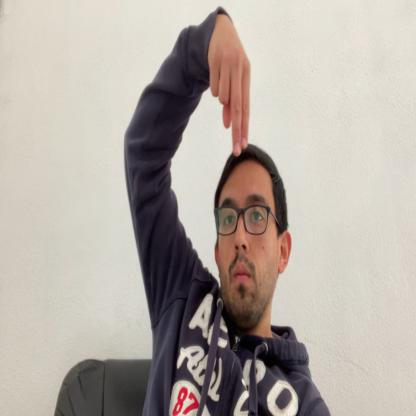N: (207, 11, 251, 155)
